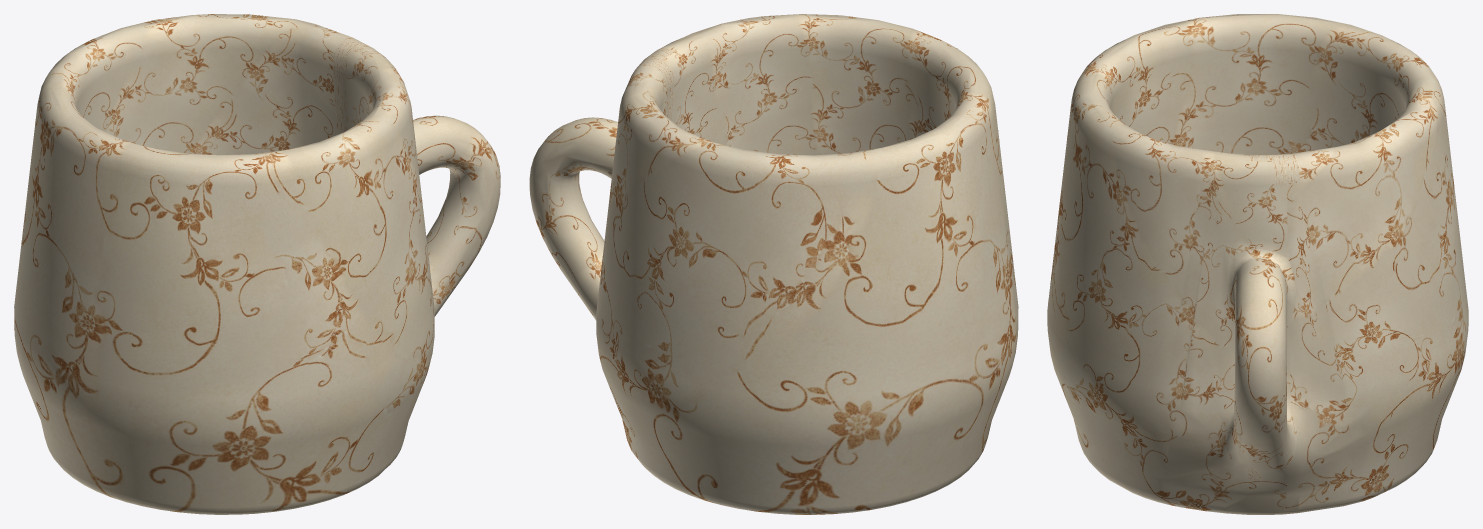
The model's file is mug.glb.
3 renders of one model, left to right at view 1: azimuth 30°, elevation 25°; view 2: azimuth 150°, elevation 25°; view 3: azimuth 270°, elevation 25°, orthographic.
Parts seen in each view (by area): view 1: Cylinder; view 2: Cylinder; view 3: Cylinder.
Boxes of the visible parts, <box> form: Cylinder: <box>14,14,500,514</box>; Cylinder: <box>529,14,1018,514</box>; Cylinder: <box>1047,14,1468,514</box>.
Size of the model in its own units: 2.82 by 2.12 by 2.25.
1 material, 1 textured.
